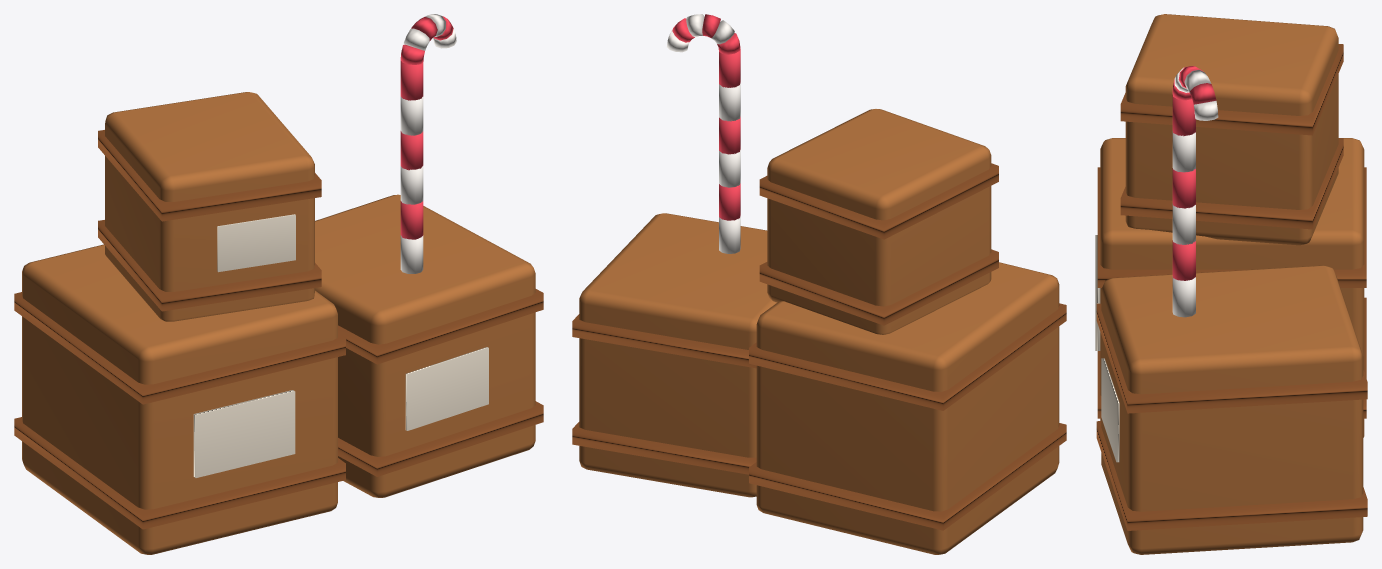
Rendered from candy_crates.glb.
3 views of the same model, side by side, from view 1: azimuth 30°, elevation 25°; view 2: azimuth 150°, elevation 25°; view 3: azimuth 270°, elevation 25° (orthographic). The views are drawn at different scales.
Visible parts, largest first — view 1: Crates; view 2: Crates; view 3: Crates.
Boxes of the visible parts, x1,y1,x2,y2 form: Crates: [14, 14, 543, 554]; Crates: [572, 14, 1066, 554]; Crates: [1095, 14, 1367, 554].
Size of the model in its own units: 2.09 by 2.07 by 1.13.
